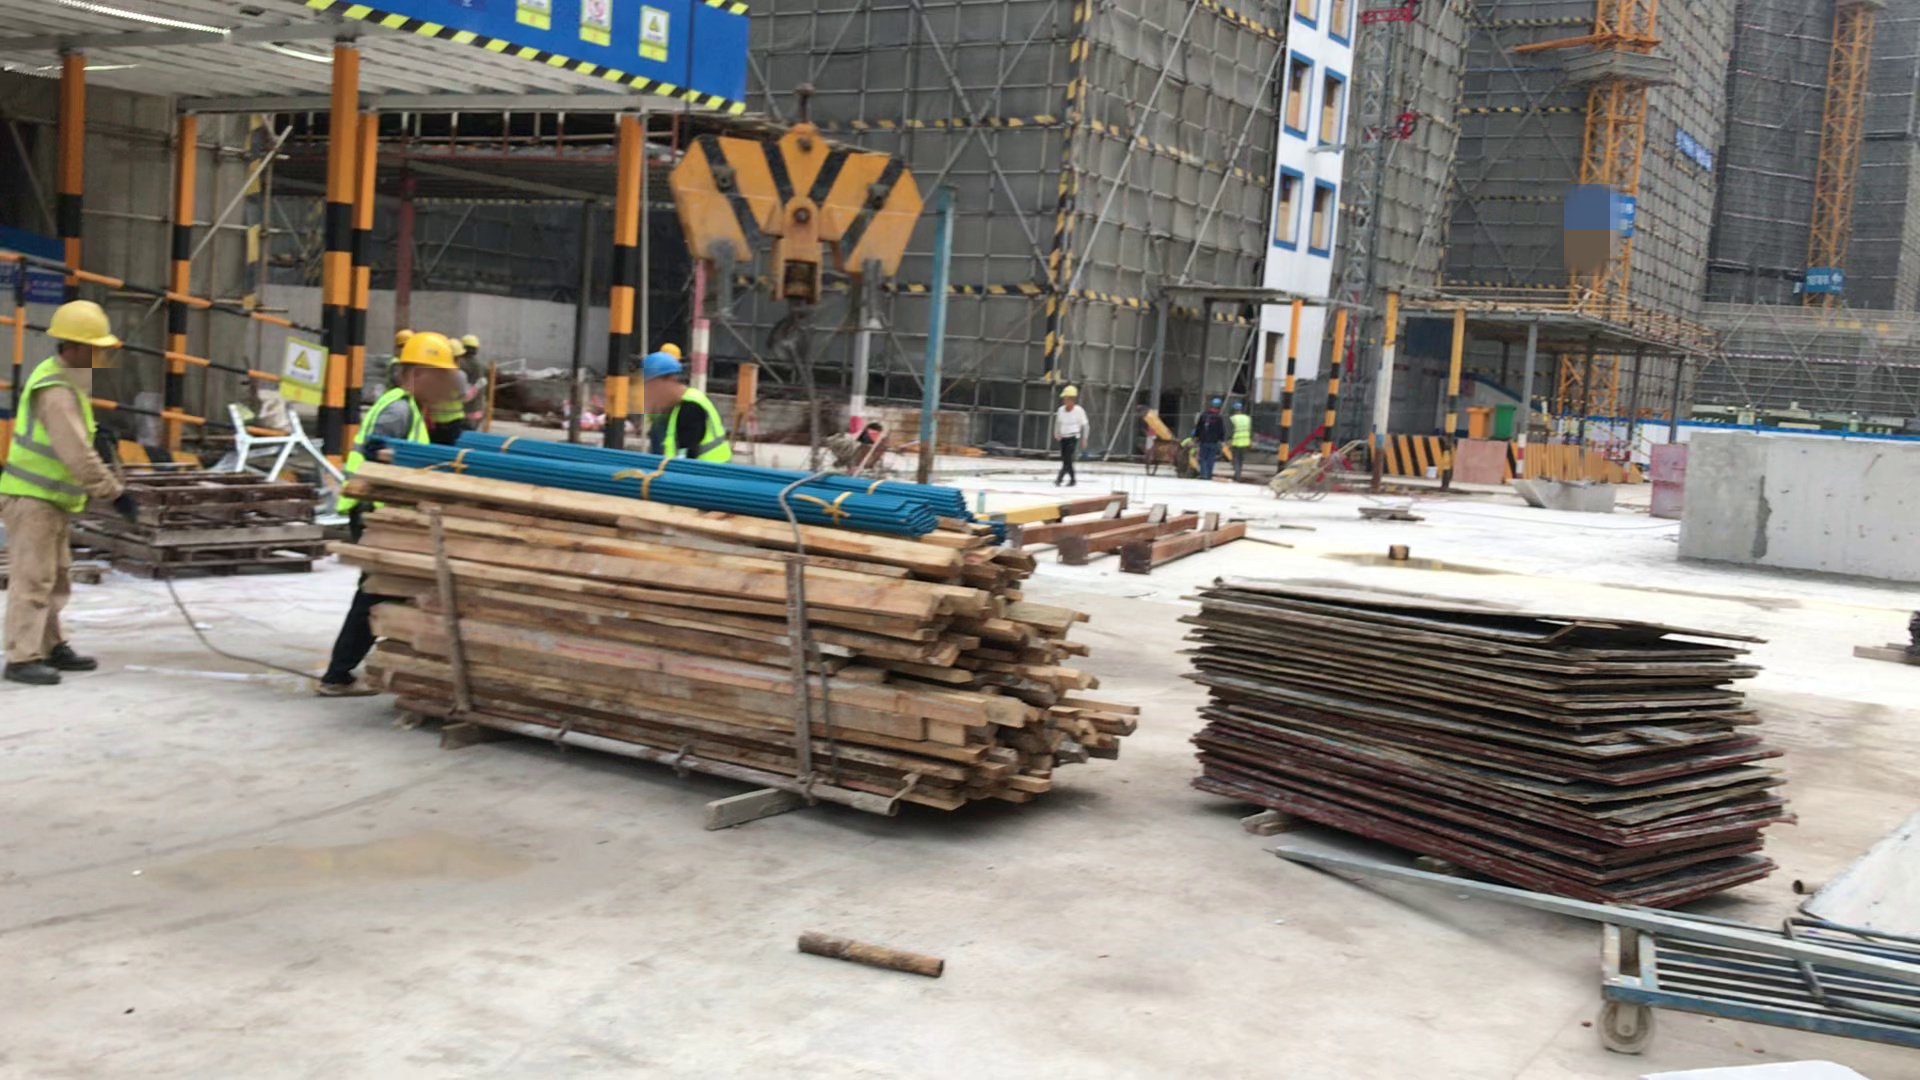board: (1194, 577, 1788, 893)
ebox: (729, 361, 755, 446)
handcart: (1279, 446, 1343, 500)
helmet: (44, 299, 121, 352), (390, 334, 453, 375), (636, 355, 683, 383), (449, 337, 465, 358), (1057, 385, 1078, 399), (461, 334, 479, 349), (1209, 398, 1222, 409)
hook: (670, 116, 921, 343)
hopper: (1516, 474, 1616, 511)
person: (6, 297, 120, 683), (339, 333, 451, 707), (633, 349, 735, 468), (1052, 385, 1086, 487), (1223, 401, 1255, 483), (447, 337, 471, 442), (1196, 396, 1224, 480)
slogan: (579, 1, 673, 51), (282, 338, 327, 410), (1675, 129, 1711, 176)
vest: (16, 373, 97, 504), (346, 403, 429, 499), (662, 399, 739, 468), (1231, 411, 1251, 449)
wood: (354, 464, 1144, 816)
